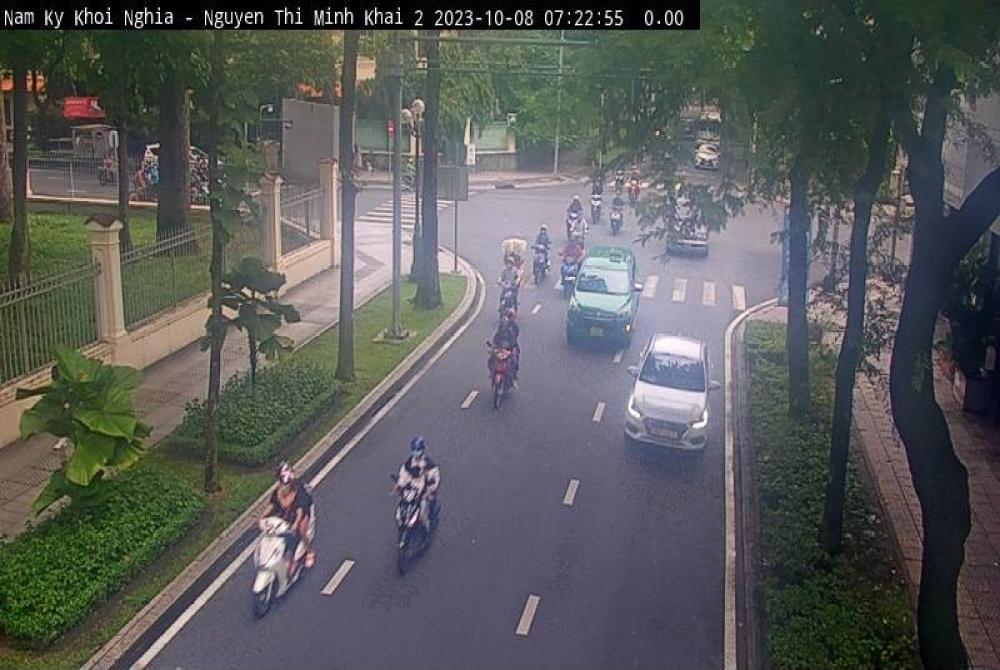car: (626, 333, 712, 454), (568, 244, 638, 351)
motorbike: (479, 341, 516, 413)
